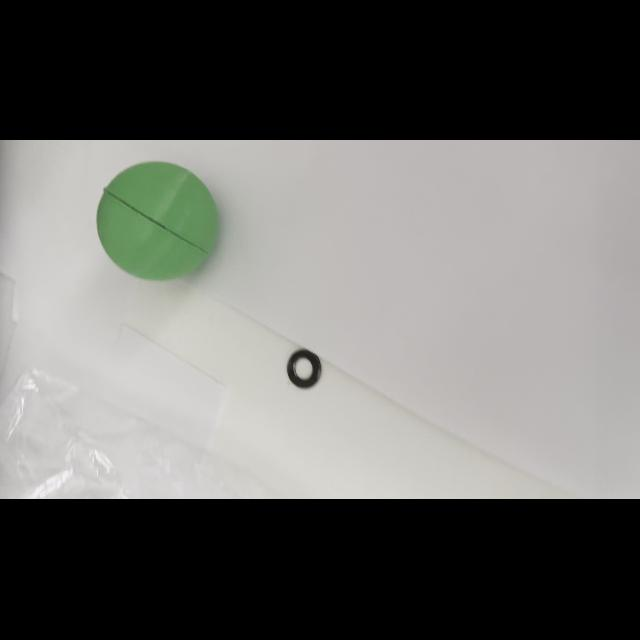objects: (94, 157, 222, 283)
